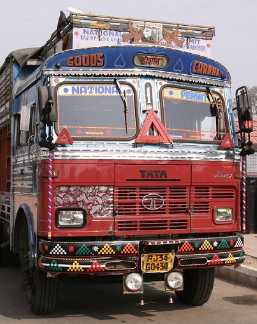truck: (1, 10, 248, 318)
